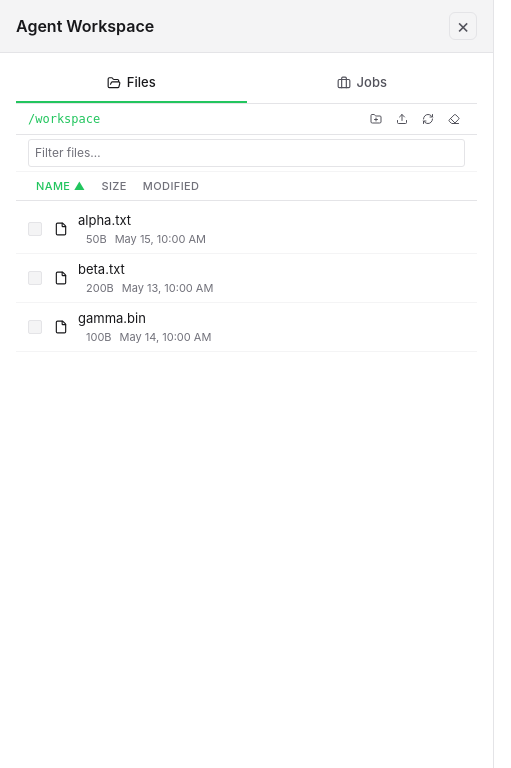
Test case: FileSystemDrawer Stage D: bulk loading guard › bulk Delete button is disabled while delete is in flight
expect the text "alpha.txt" is shown: met, box [78,212,131,228]
Click the checkbox named "Select alpha.txt".
click(35, 229)  # box [28,222,42,236]
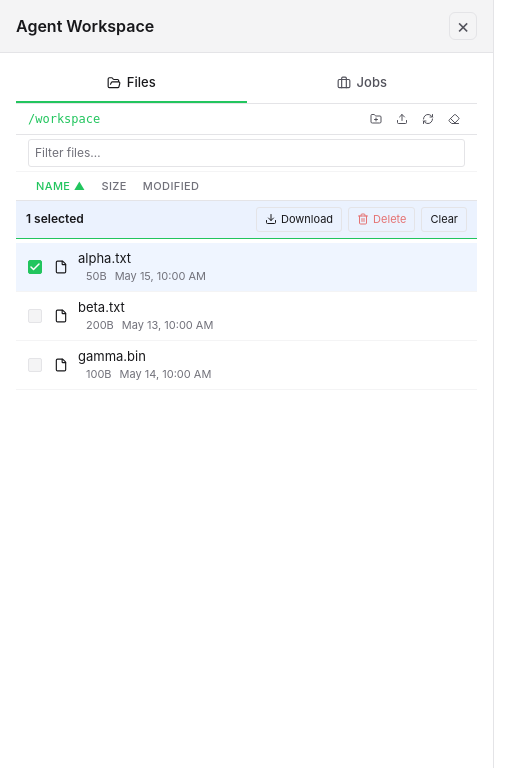
Click the button titled "Delete selected".
click(382, 219)  # box [348,207,415,232]
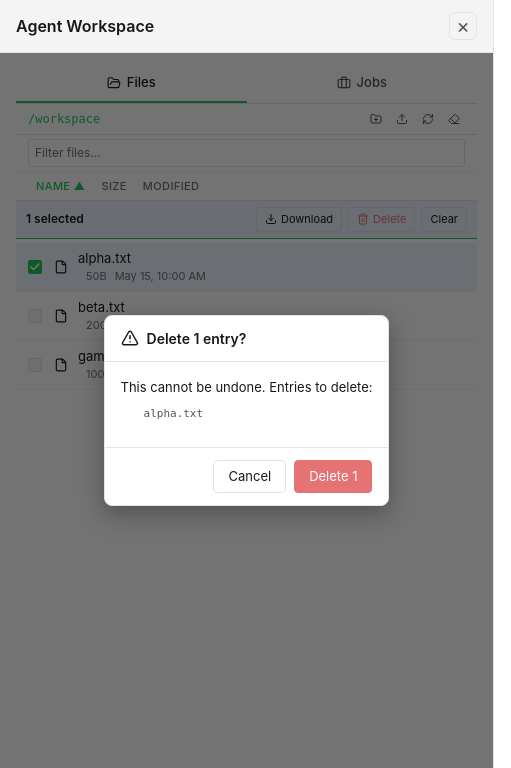
expect the text "Delete 1 entry?" is shown: met, box [146,328,246,349]
Click the button "Delete 1".
click(333, 477)  # box [294,460,372,493]
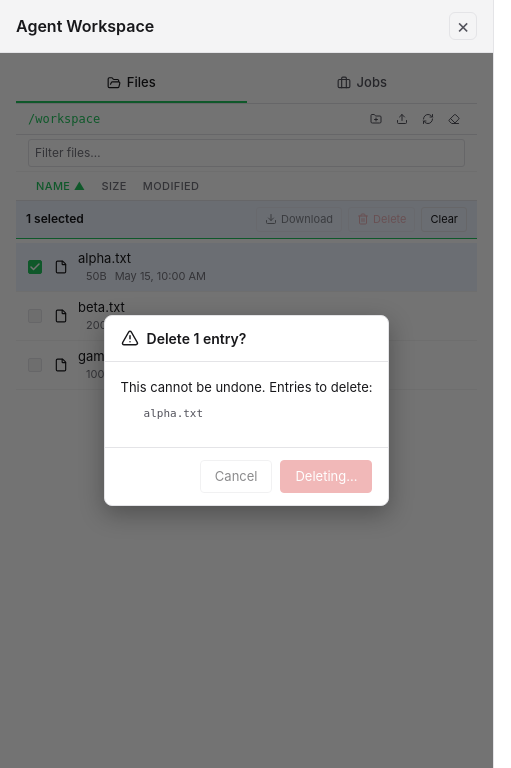
expect the button "Deleting…" is disabled: met, box [280,460,372,493]
